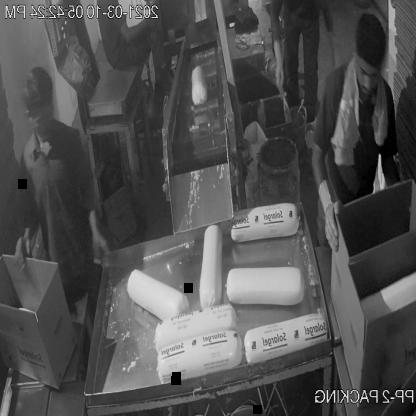glove: (318, 168, 344, 260)
no_glove: (75, 174, 113, 282), (9, 209, 40, 290), (111, 12, 158, 53)
